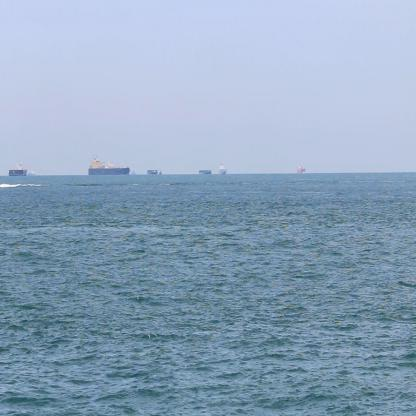Container Ship: (88, 155, 130, 176), (8, 161, 28, 176), (296, 162, 306, 175), (218, 162, 227, 174), (199, 168, 212, 175), (28, 169, 39, 177), (147, 168, 159, 175), (131, 166, 138, 176), (158, 167, 163, 174)
